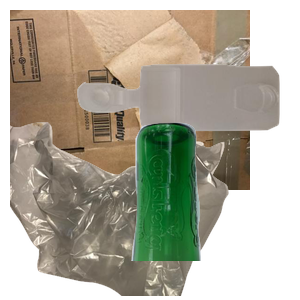cardboard: (10, 10, 250, 190)
glass: (129, 120, 300, 300)
plastic: (75, 62, 300, 186)
trash: (10, 120, 231, 300)
